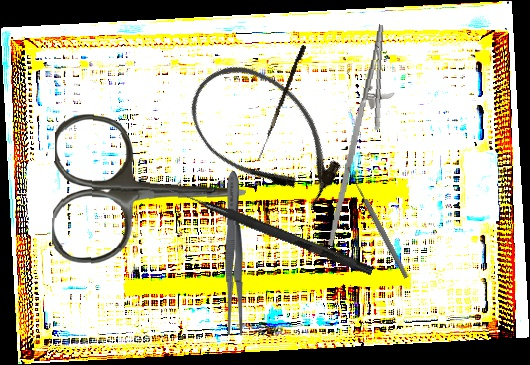Cannula: (170, 43, 362, 227)
Dressing Forceps: (222, 170, 246, 337)
Hook Surgical: (163, 184, 375, 276), (257, 44, 307, 163)
Iris Scissors: (50, 113, 249, 269)
Needle Holder: (326, 21, 403, 251)
Surgical Spoon: (345, 165, 410, 280)
